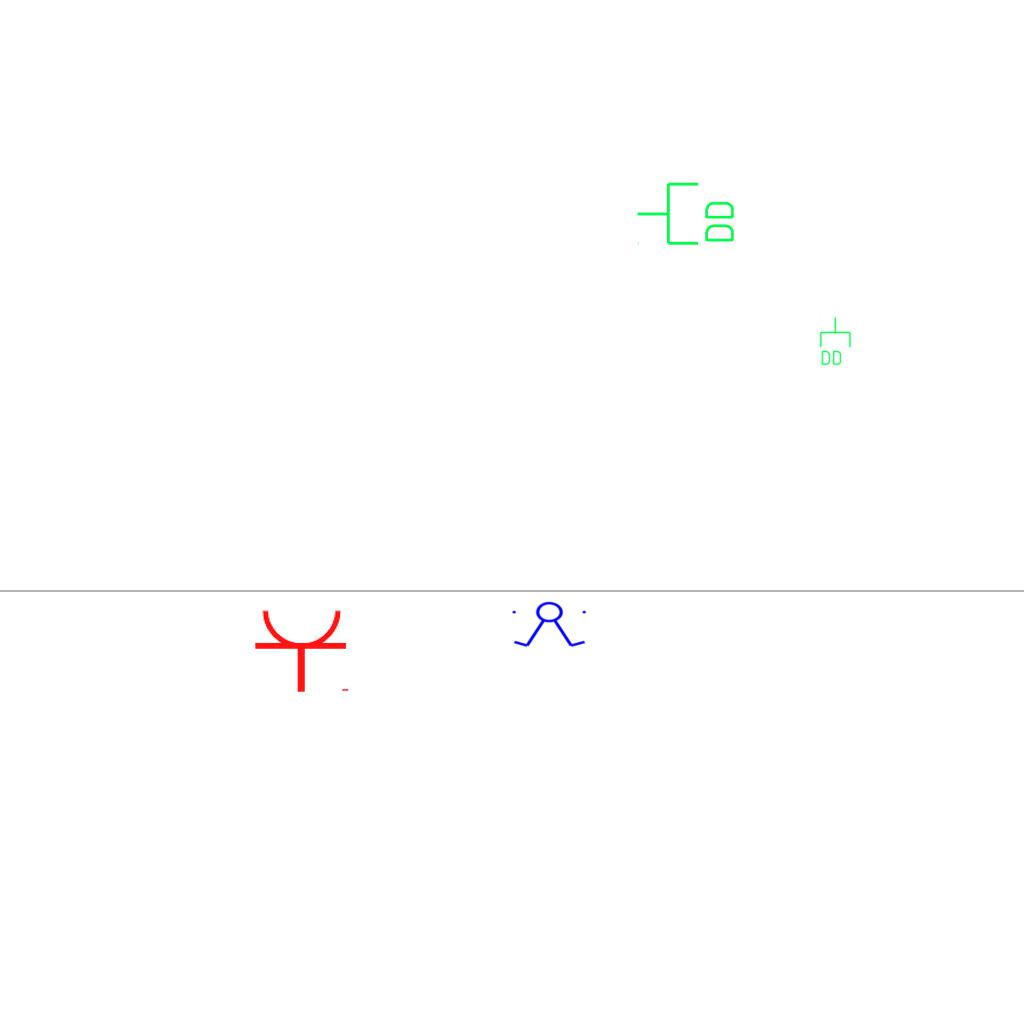Datenanschluss_zweifach: (635, 180, 738, 249), (818, 316, 852, 367)
Schukosteckdose_einfach: (253, 607, 353, 694)
Serienschalter: (508, 601, 592, 649)
